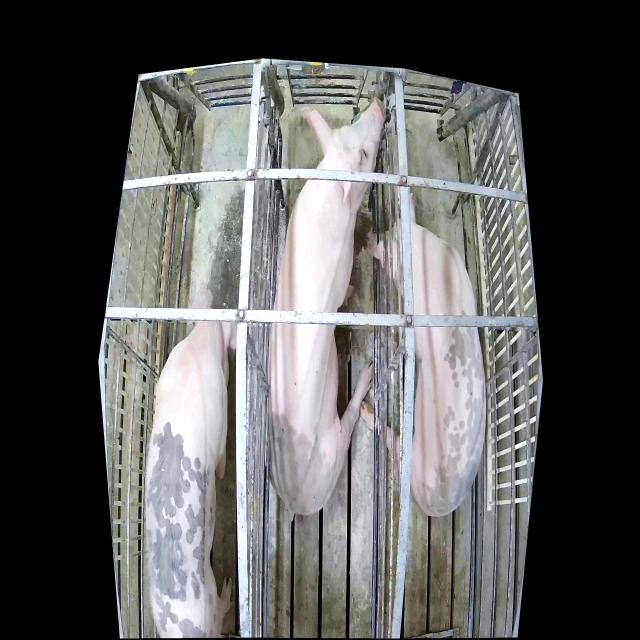pig: (268, 98, 387, 514), (361, 187, 488, 519), (145, 278, 239, 636)
